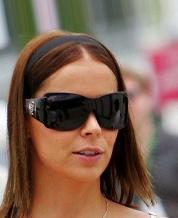face: (45, 91, 113, 161)
